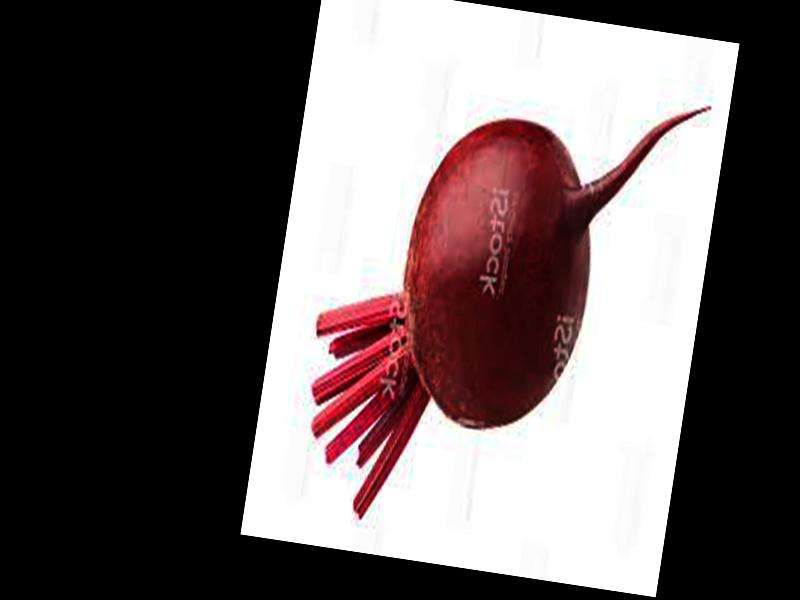Beet: (289, 50, 705, 558)
